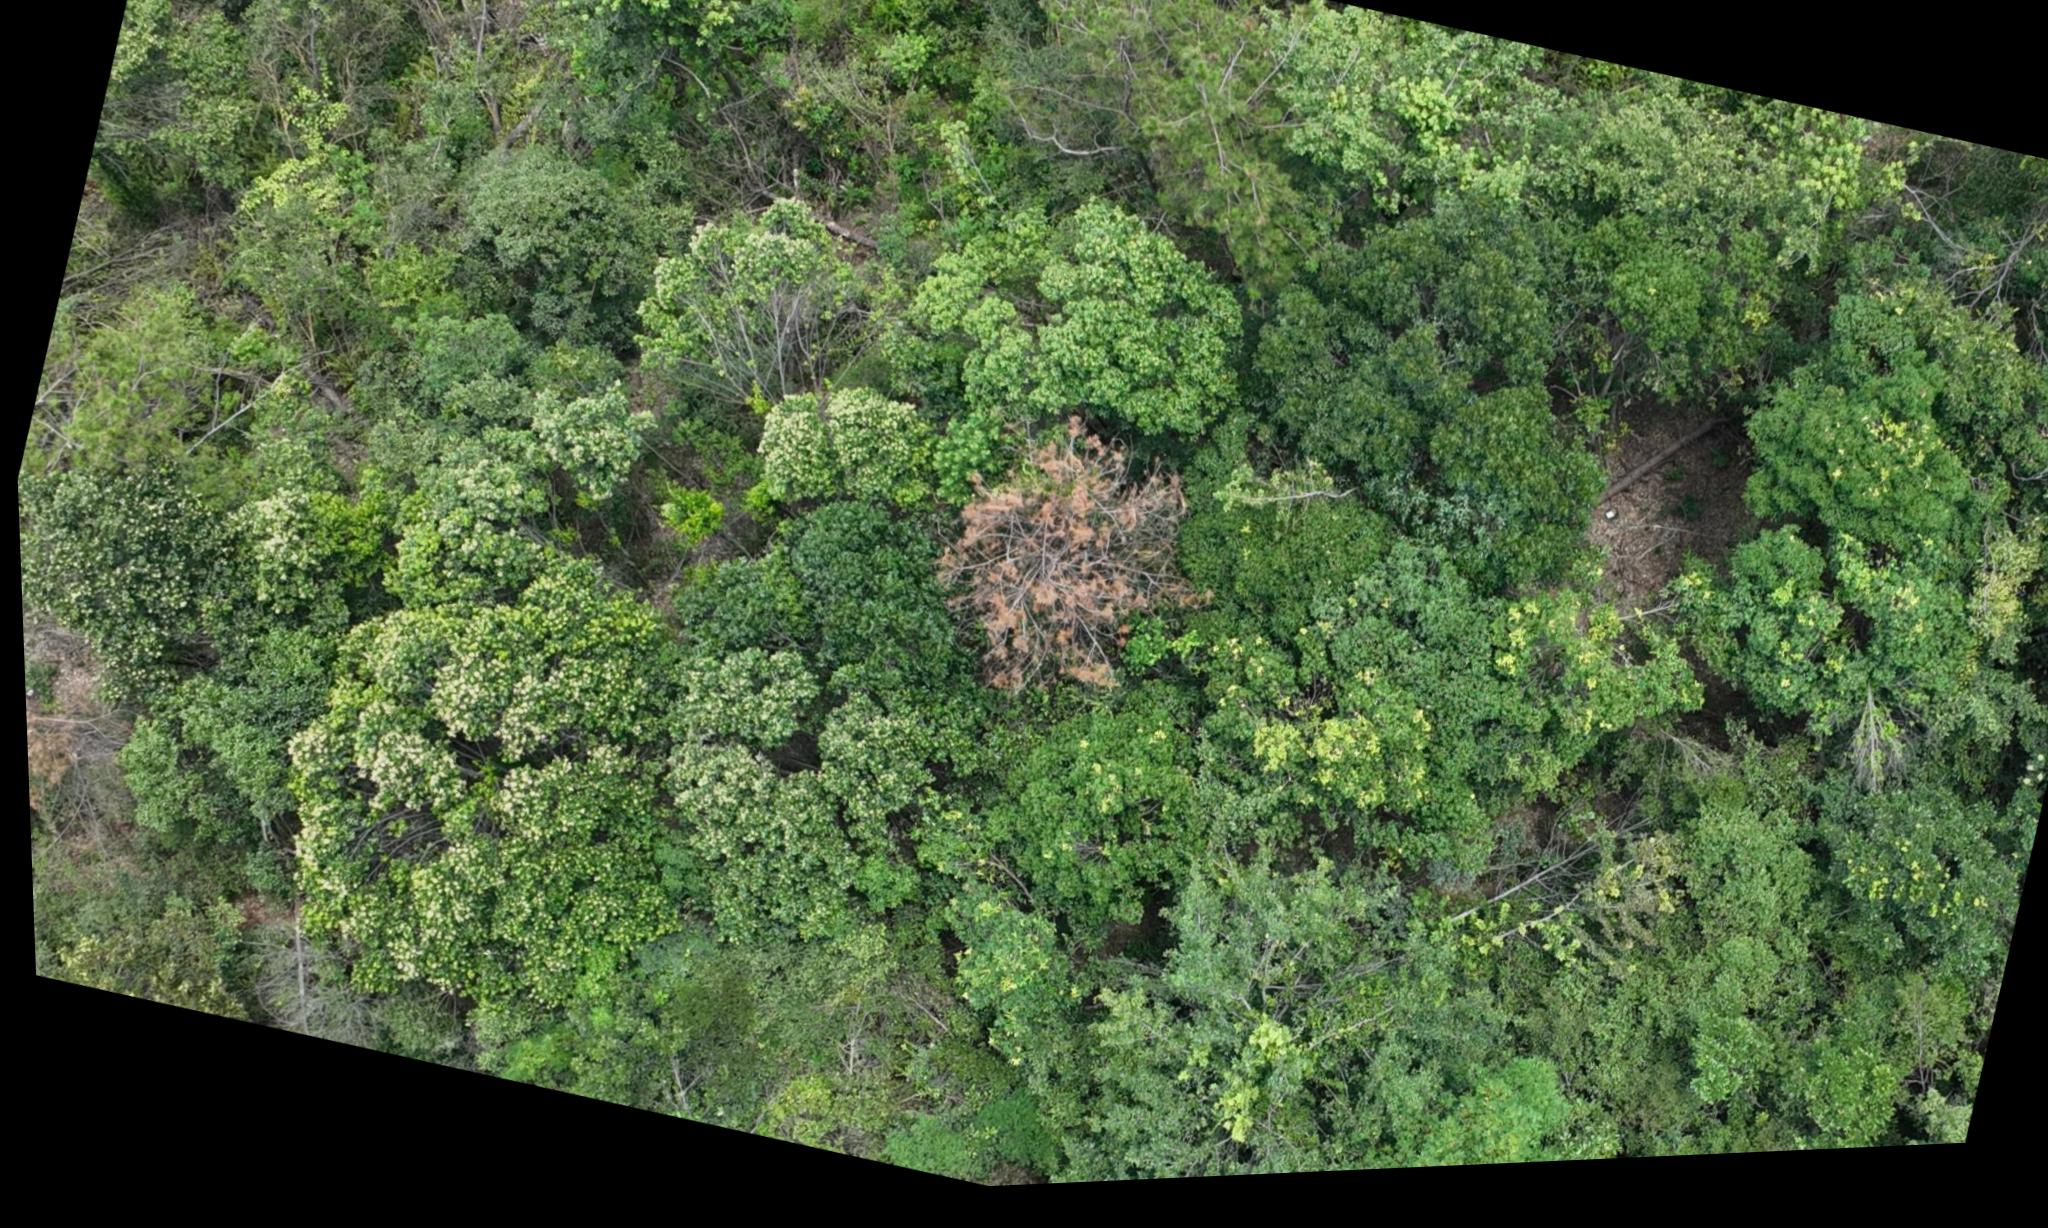heavy: (895, 395, 1222, 751), (18, 585, 162, 864)
